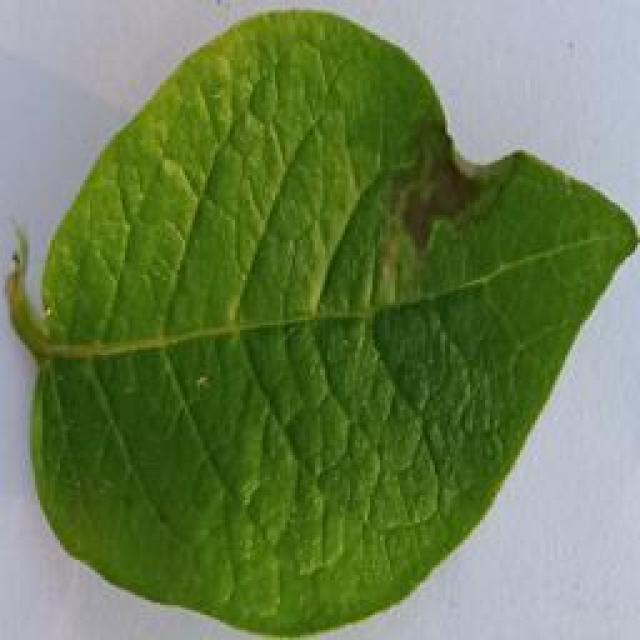Potato_Late_Blight: (2, 0, 630, 625)
